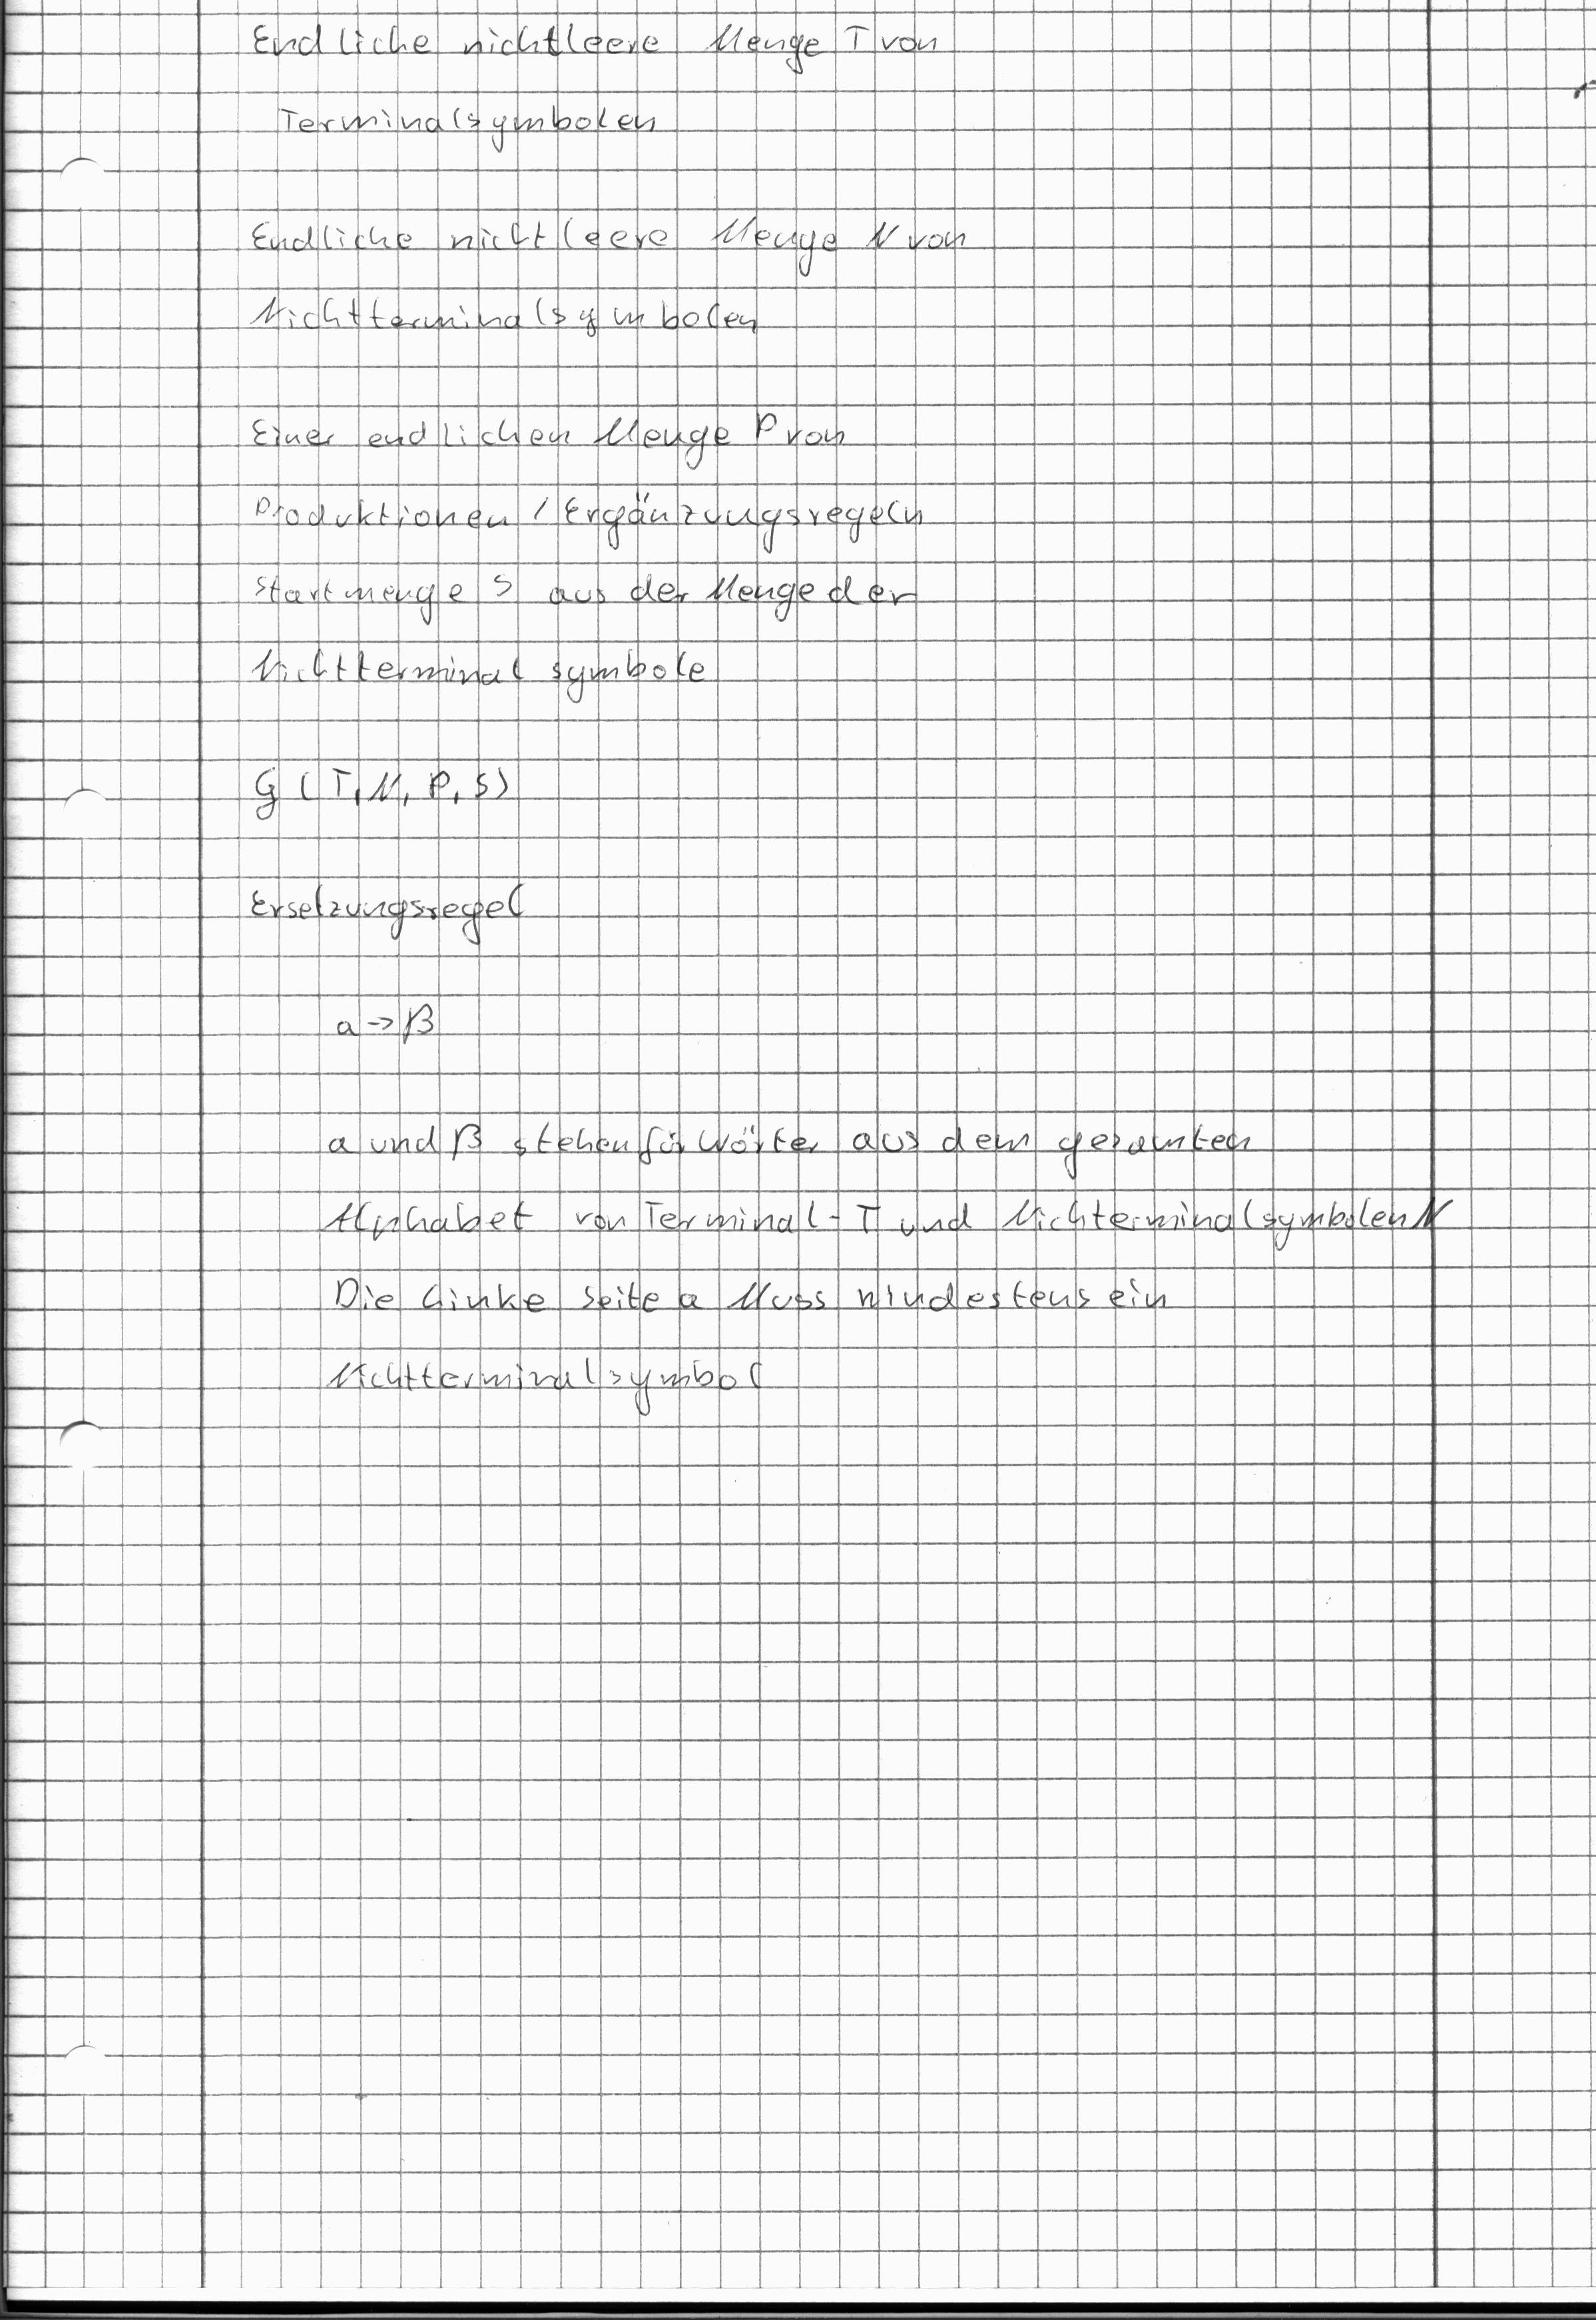word: (314, 1108, 1470, 1466), (226, 412, 937, 726), (234, 195, 993, 365), (236, 4, 947, 164), (232, 856, 543, 964), (234, 738, 543, 844), (319, 962, 473, 1079)
